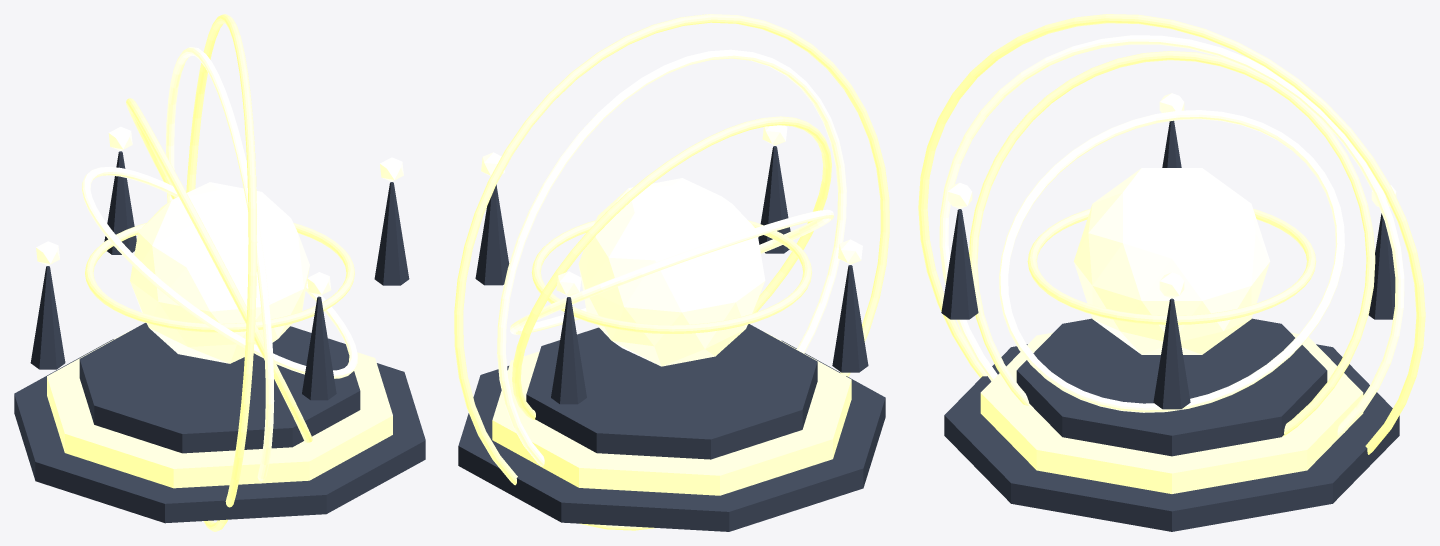
File: gpu-blender-v20.glb
3 renders of one model, left to right at view 1: azimuth 30°, elevation 25°; view 2: azimuth 150°, elevation 25°; view 3: azimuth 270°, elevation 25°, orthographic. The views are drawn at different scales.
Visible parts, largest first — view 1: Cylinder.002, SovereignCore_agent-flight-recorder, Cylinder, Cylinder.001, Torus.004, Torus.003, Torus.001, Torus, Torus.002, Cone.003, Cone, Cone.002 (+1 smaller); view 2: Cylinder.002, SovereignCore_agent-flight-recorder, Cylinder, Cylinder.001, Torus.004, Torus.003, Torus.002, Torus, Torus.001, Cone.001, Cone.002, Cone (+1 smaller); view 3: SovereignCore_agent-flight-recorder, Cylinder.002, Cylinder, Cylinder.001, Torus.004, Torus.001, Torus.003, Torus.002, Torus, Cone, Cone.003, Cone.001 (+1 smaller).
Part boxes in pixels (<box>): Cylinder.002: <box>79,323,360,453</box>; SovereignCore_agent-flight-recorder: <box>130,182,309,363</box>; Cylinder: <box>14,339,425,523</box>; Cylinder.001: <box>47,330,392,488</box>; Torus.004: <box>186,14,257,531</box>; Torus.003: <box>165,47,274,483</box>; Torus.001: <box>82,166,357,378</box>; Torus: <box>85,223,354,332</box>; Torus.002: <box>126,98,312,442</box>; Cone.003: <box>302,296,336,400</box>; Cone: <box>374,182,409,285</box>; Cone.002: <box>30,266,65,369</box>; Cylinder.002: <box>526,324,817,459</box>; SovereignCore_agent-flight-recorder: <box>578,178,765,366</box>; Cylinder: <box>458,340,885,531</box>; Cylinder.001: <box>492,331,851,495</box>; Torus.004: <box>454,14,889,530</box>; Torus.003: <box>497,49,846,466</box>; Torus.002: <box>512,116,831,419</box>; Torus: <box>531,220,812,333</box>; Torus.001: <box>510,209,833,334</box>; Cone.001: <box>551,297,586,404</box>; Cone.002: <box>832,265,868,372</box>; Cone: <box>475,184,509,285</box>; SovereignCore_agent-flight-recorder: <box>1073,168,1270,354</box>; Cylinder.002: <box>1016,318,1327,456</box>; Cylinder: <box>944,344,1399,531</box>; Cylinder.001: <box>980,332,1363,493</box>; Torus.004: <box>918,14,1425,454</box>; Torus.001: <box>999,110,1344,412</box>; Torus.003: <box>939,35,1404,437</box>; Torus.002: <box>969,51,1375,435</box>; Torus: <box>1027,209,1316,324</box>; Cone: <box>1153,298,1190,409</box>; Cone.003: <box>941,209,978,319</box>; Cone.001: <box>1368,213,1395,319</box>.
Bounding box in the file's own units: 4.41 × 5.33 × 4.9.
